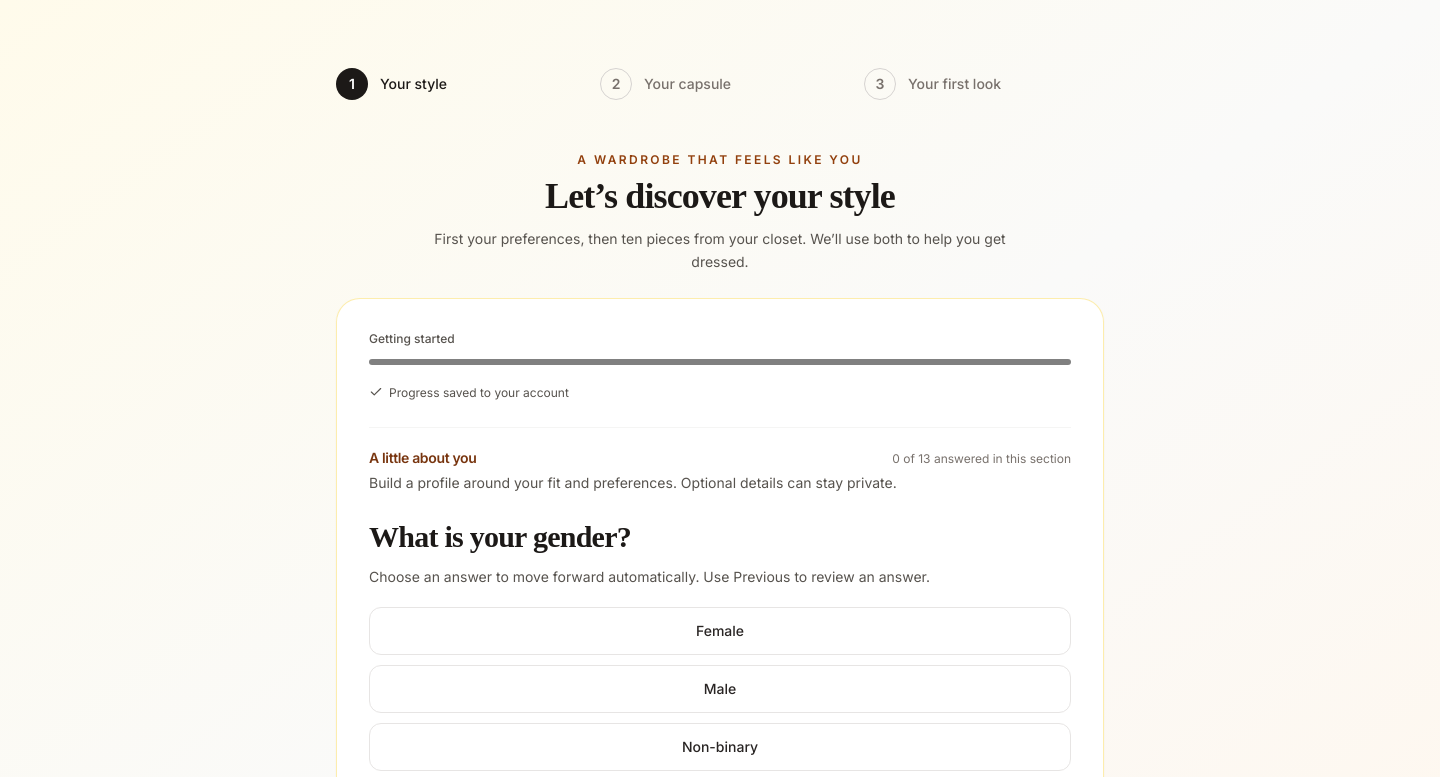
it: keeps the warm introduction on the first question and focuses later screens on the active question
The image size is (1440, 777).
Check: the text "First your preferences, then ten pieces" is shown, box top-left (434, 230), bottom-right (1006, 270)
Check: the text "Build a profile around your fit" is shown, box top-left (369, 474), bottom-right (897, 491)
Click the button "Male" at (720, 689), box top-left (369, 665), bottom-right (1071, 713)
(page scrolled)
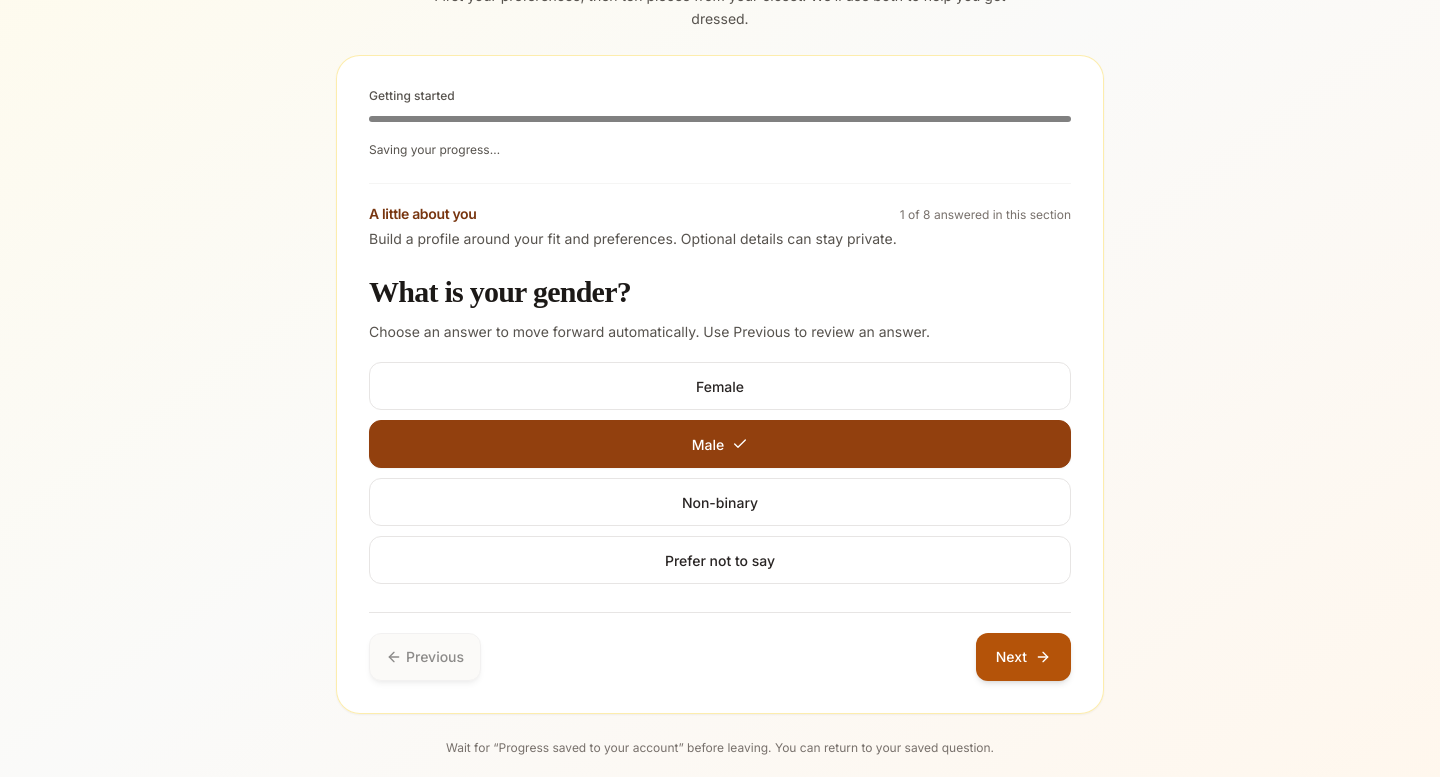
Click the button "Next" at (1023, 657), box top-left (976, 633), bottom-right (1071, 681)
(page scrolled)
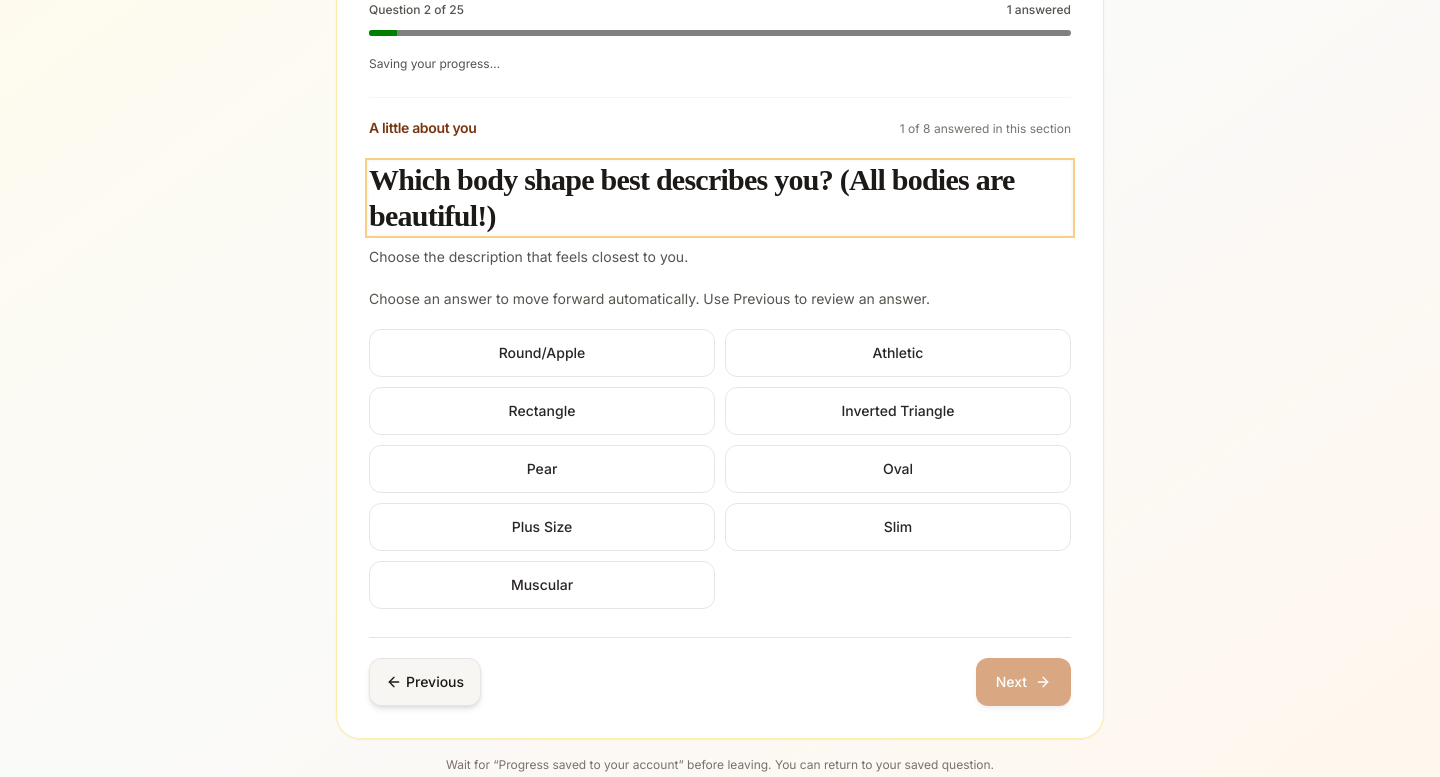
Check: the text "Build a profile around your fit" is gone
Click the button "Previous" at (425, 682), box top-left (369, 658), bottom-right (481, 706)
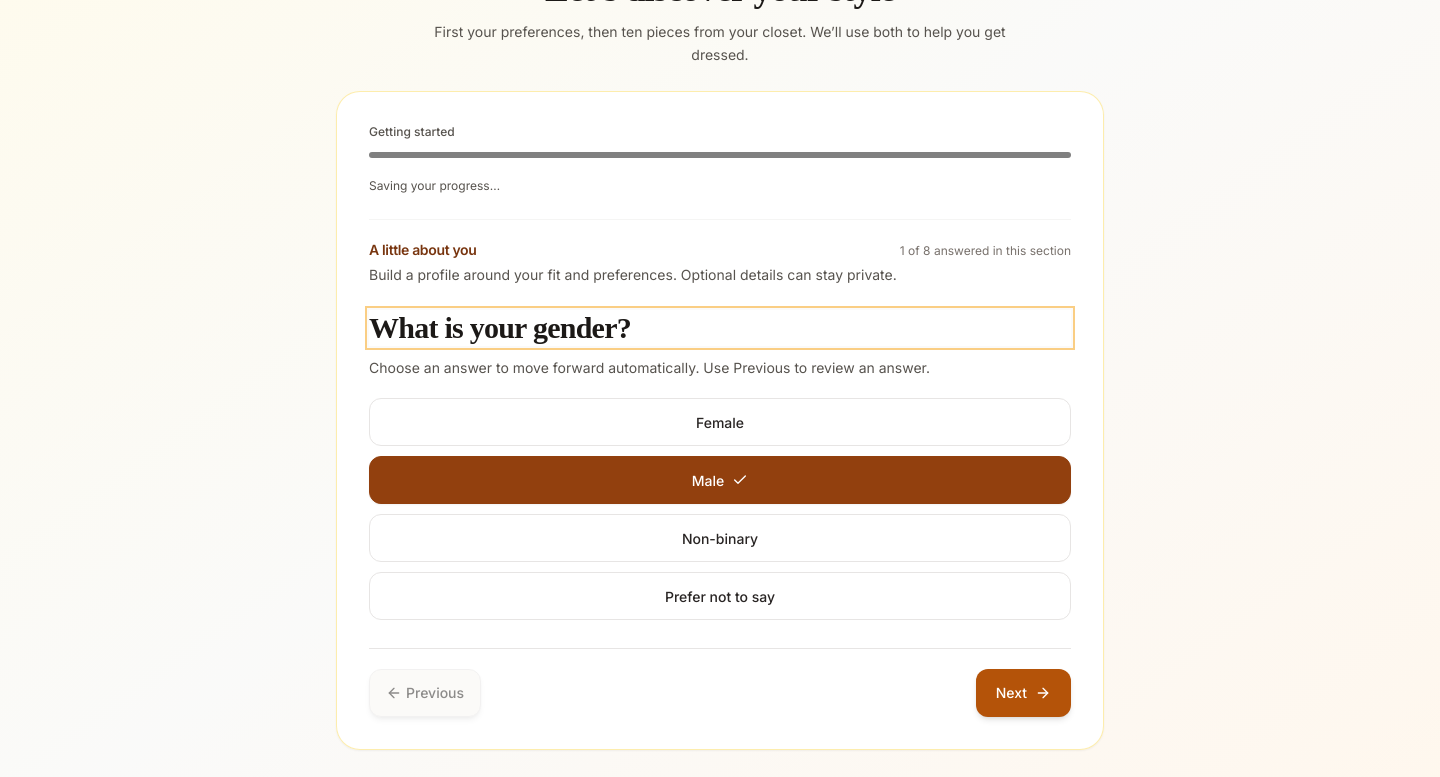
Check: the text "First your preferences, then ten pieces" is shown, box top-left (434, 23), bottom-right (1006, 63)
